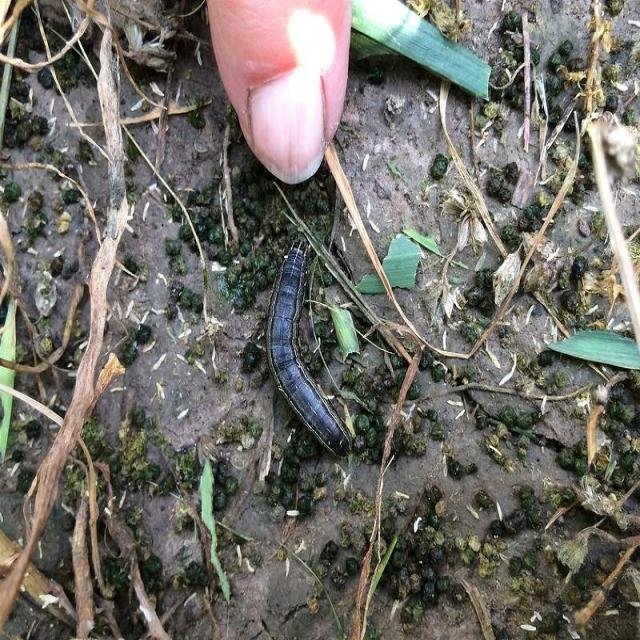army worm: (256, 232, 356, 470)
